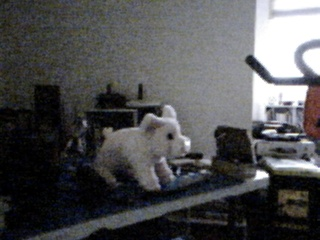piggy: (93, 103, 193, 192)
